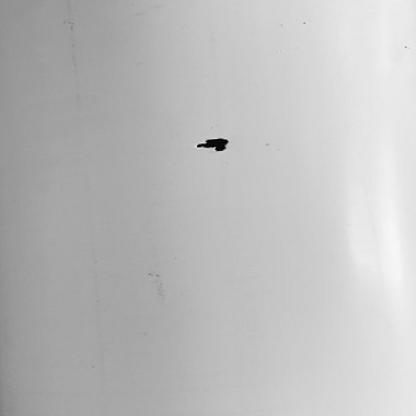kongdong: (195, 134, 239, 163)
